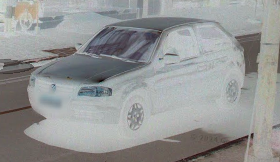car: (27, 15, 245, 147)
